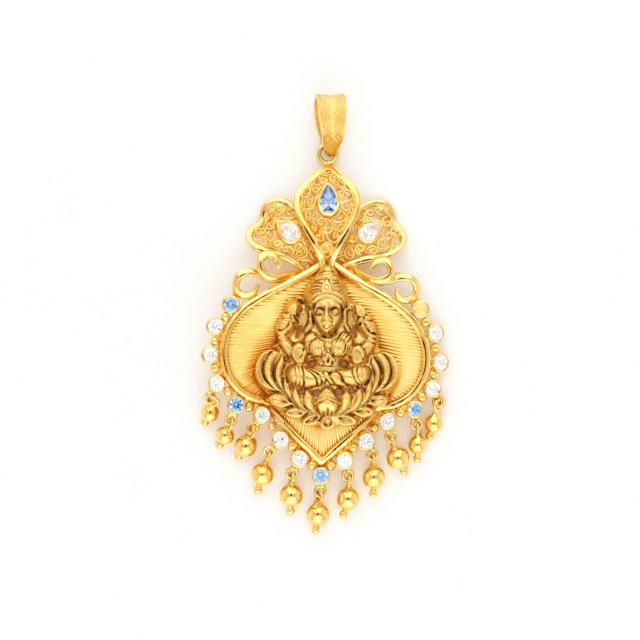missing gem: (414, 302, 428, 317)
